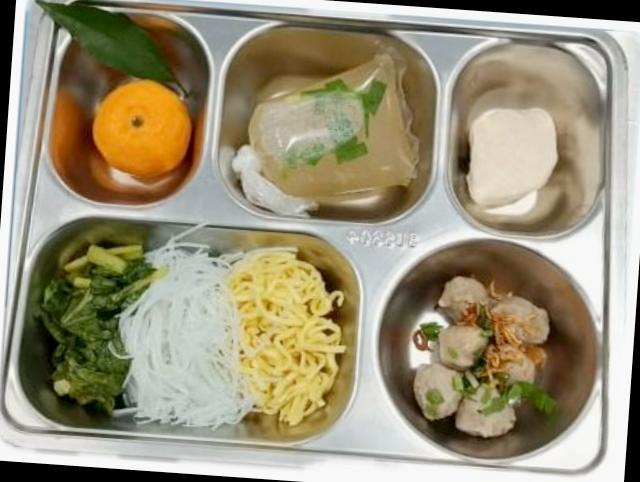bakso: (407, 275, 567, 439)
buah: (92, 80, 190, 178)
mie: (111, 229, 345, 428)
sayur: (37, 246, 160, 415)
tahu: (465, 108, 557, 207)
